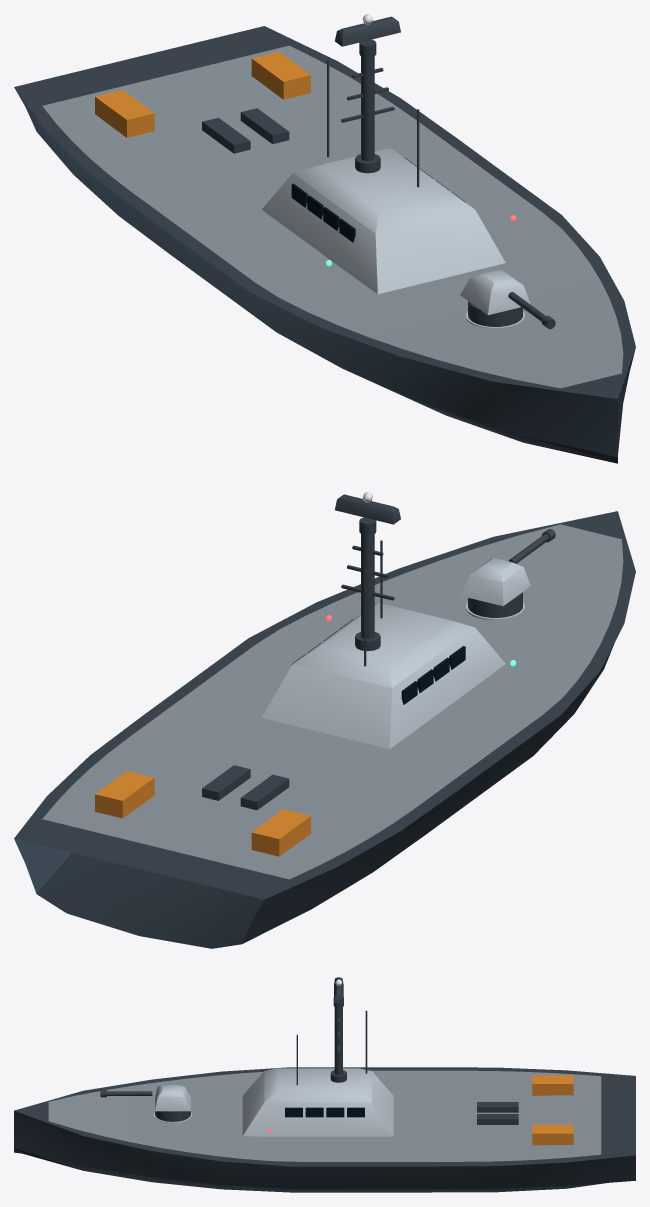
Rendered from ship_raider.glb.
3 views of the same model, one above another, from view 1: azimuth 30°, elevation 25°; view 2: azimuth 150°, elevation 25°; view 3: azimuth 270°, elevation 25° (orthographic). The views are drawn at different scales.
Visible parts, largest first — view 1: deck_plate, hull, superstructure, deck, turret_shield_1, decoy_stbd, decoy_port, exhaust_vents, mast, hull_under, radar_plate, side_win (+1 smaller); view 2: deck_plate, superstructure, deck, hull_under, hull, turret_shield_1, decoy_stbd, decoy_port, exhaust_vents, mast, radar_plate, side_win (+1 smaller); view 3: deck_plate, hull, superstructure, deck, hull_under, exhaust_vents, turret_shield_1, decoy_port, decoy_stbd, side_win, mast, turret_base_1.
Boxes of the visible parts, <box> form: deck_plate: <box>42,45,623,388</box>; hull: <box>15,89,635,456</box>; superstructure: <box>262,148,505,294</box>; deck: <box>14,26,635,398</box>; turret_shield_1: <box>460,269,530,315</box>; decoy_stbd: <box>95,90,154,137</box>; decoy_port: <box>251,52,310,99</box>; exhaust_vents: <box>202,108,289,153</box>; mast: <box>361,56,374,161</box>; hull_under: <box>348,371,617,463</box>; radar_plate: <box>335,16,400,46</box>; side_win: <box>291,157,465,242</box>; deck_plate: <box>42,524,623,879</box>; superstructure: <box>261,603,505,748</box>; deck: <box>14,511,635,899</box>; hull_under: <box>37,852,263,948</box>; hull: <box>14,637,617,943</box>; turret_shield_1: <box>460,558,530,606</box>; decoy_stbd: <box>251,809,310,856</box>; decoy_port: <box>95,771,154,818</box>; exhaust_vents: <box>202,765,289,810</box>; mast: <box>361,534,374,638</box>; radar_plate: <box>335,494,400,524</box>; side_win: <box>291,619,465,704</box>; deck_plate: <box>48,1070,601,1161</box>; hull: <box>14,1110,635,1188</box>; superstructure: <box>242,1068,393,1136</box>; deck: <box>14,1067,635,1166</box>; hull_under: <box>14,1148,606,1192</box>; exhaust_vents: <box>477,1102,518,1124</box>; turret_shield_1: <box>155,1085,190,1111</box>; decoy_port: <box>532,1124,573,1145</box>; decoy_stbd: <box>532,1075,573,1095</box>; side_win: <box>285,1107,364,1117</box>; mast: <box>334,1007,342,1074</box>; turret_base_1: <box>155,1111,190,1121</box>.
Bounding box in the file's own units: 0.34 × 0.304 × 0.9.
